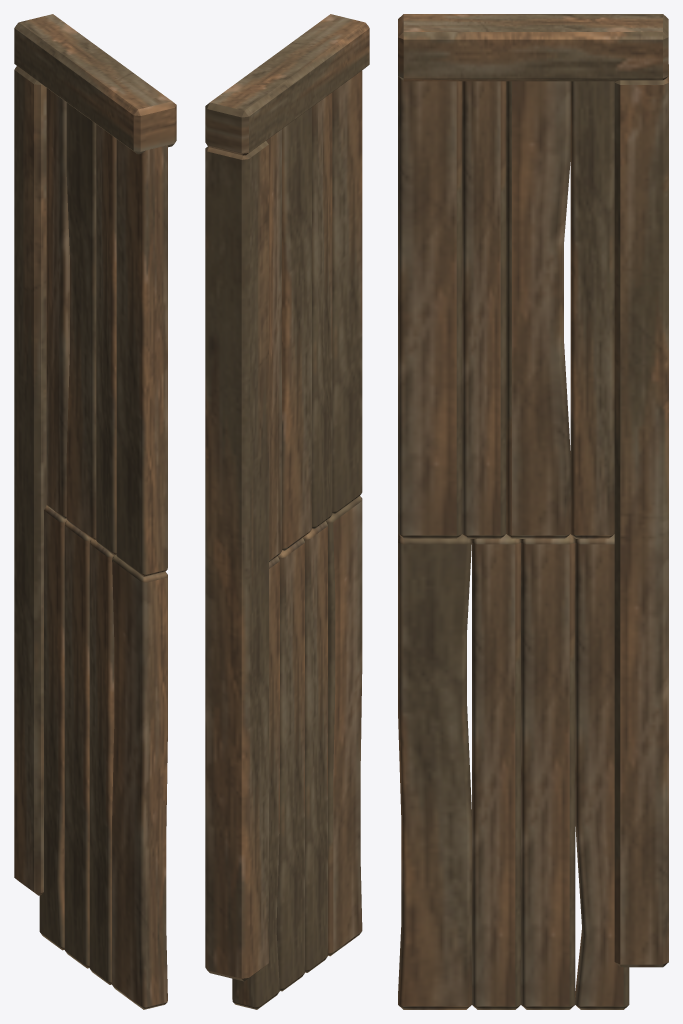
The model's file is SM_wall_wood_06.fbx.
3 renders of one model, left to right at view 1: azimuth 30°, elevation 25°; view 2: azimuth 150°, elevation 25°; view 3: azimuth 270°, elevation 25°, orthographic. The views are drawn at different scales.
Visible parts, largest first — view 1: SM_wall_wood_06_LOD0; view 2: SM_wall_wood_06_LOD0; view 3: SM_wall_wood_06_LOD0.
Boxes of the visible parts, x1,y1,x2,y2 form: SM_wall_wood_06_LOD0: (14, 14, 176, 1009); SM_wall_wood_06_LOD0: (205, 14, 369, 1009); SM_wall_wood_06_LOD0: (398, 14, 668, 1009).
Size of the model in its own units: 20 by 100 by 400.
Materials: 1 (1 with a texture image).
